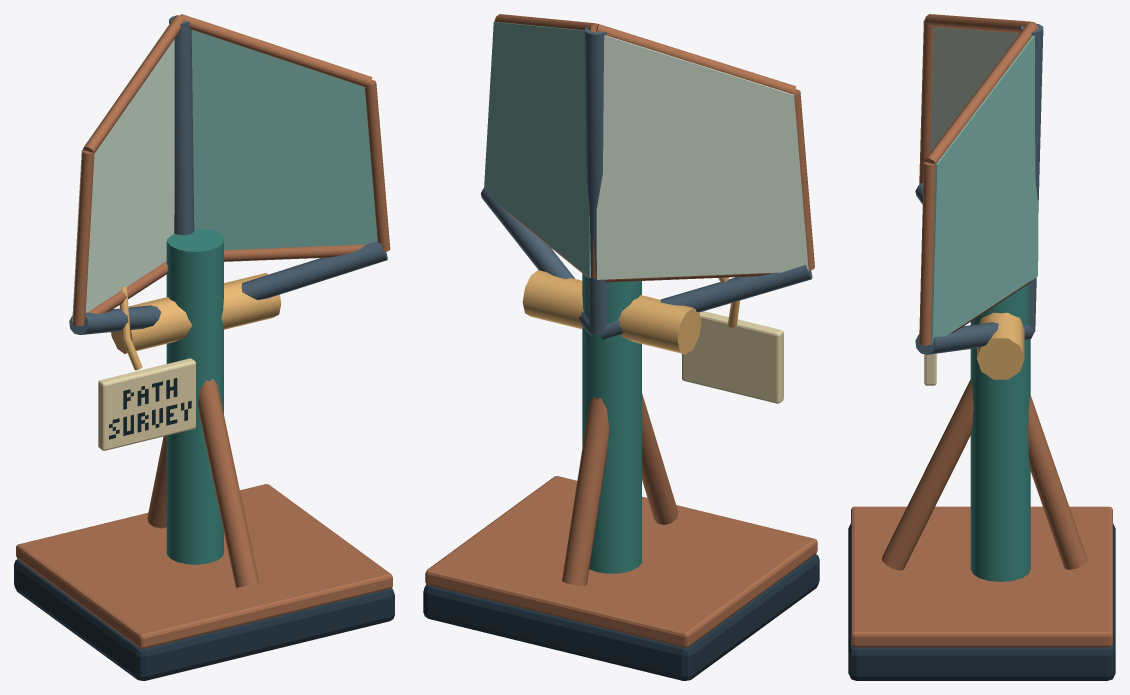
The picture shows the model from 3 angles, left to right: view 1: azimuth 30°, elevation 25°; view 2: azimuth 150°, elevation 25°; view 3: azimuth 270°, elevation 25°; orthographic projection. The views are drawn at different scales.
Visible parts, largest first — view 1: PR078 enamel and hardware; view 2: PR078 enamel and hardware; view 3: PR078 enamel and hardware.
Boxes of the visible parts, x1=… form: PR078 enamel and hardware: x1=14, y1=14, x2=394, y2=680; PR078 enamel and hardware: x1=423, y1=14, x2=819, y2=680; PR078 enamel and hardware: x1=848, y1=14, x2=1115, y2=680.
Size of the model in its own units: 0.7773 by 1.35 by 0.5484.
